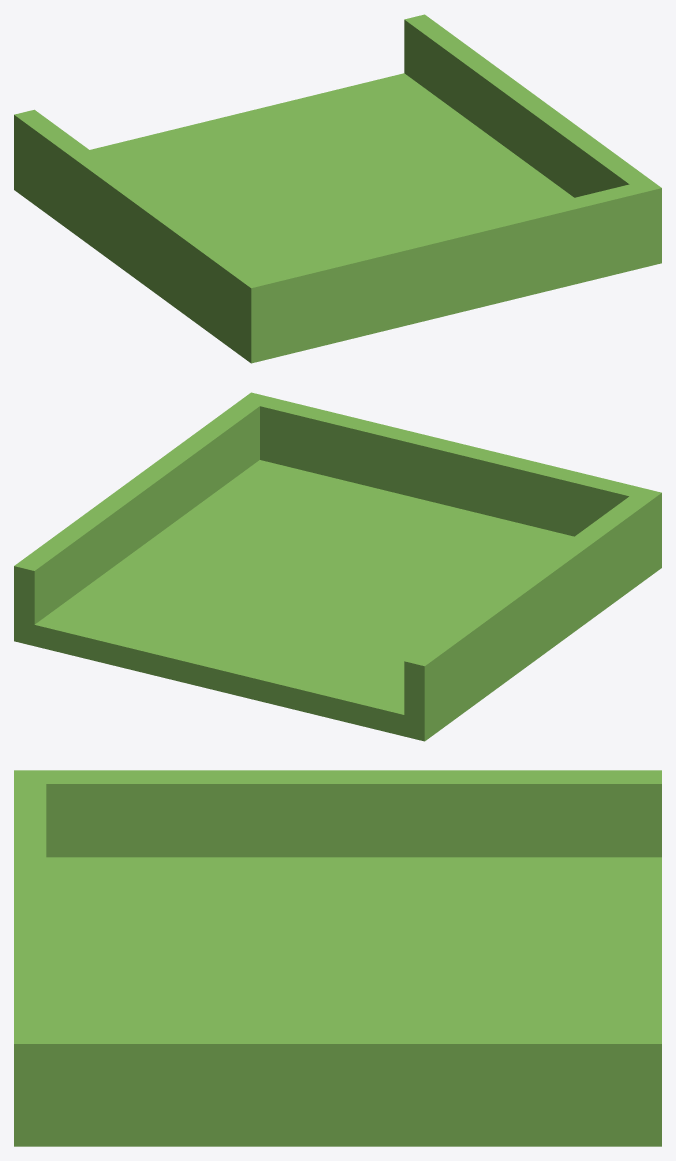
File: LimeRoof_3Edges.glb
3 renders of one model, top to bottom at view 1: azimuth 30°, elevation 25°; view 2: azimuth 150°, elevation 25°; view 3: azimuth 270°, elevation 25°, orthographic. The views are drawn at different scales.
Visible parts, largest first — view 1: roof_flat_3Edges_lime; view 2: roof_flat_3Edges_lime; view 3: roof_flat_3Edges_lime.
Boxes of the visible parts, x1,y1,x2,y2 form: roof_flat_3Edges_lime: (14, 14, 661, 363); roof_flat_3Edges_lime: (14, 392, 661, 741); roof_flat_3Edges_lime: (14, 770, 661, 1146).
Size of what is drawn, in the model's own units: 4 by 0.7 by 4.
Materials: 1 (1 with a texture image).
